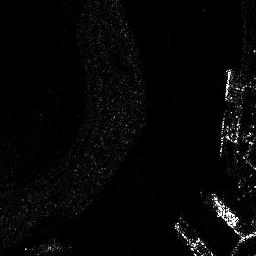ship: (211, 192, 240, 227)
